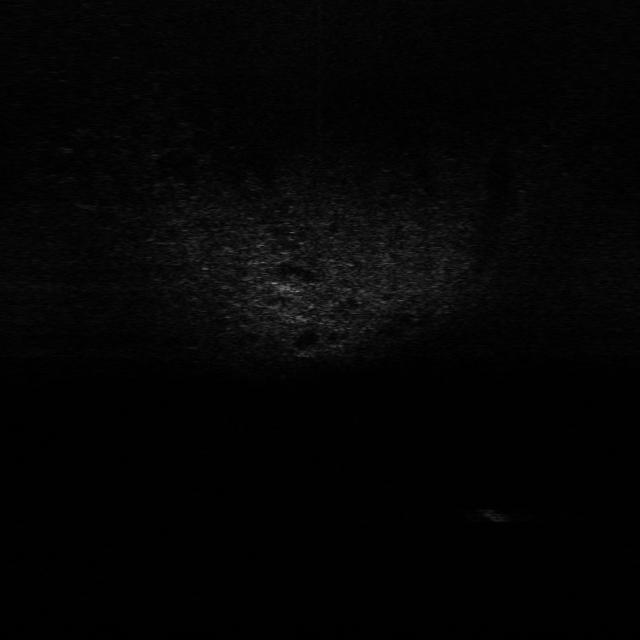cylinder: (466, 502, 522, 526)
